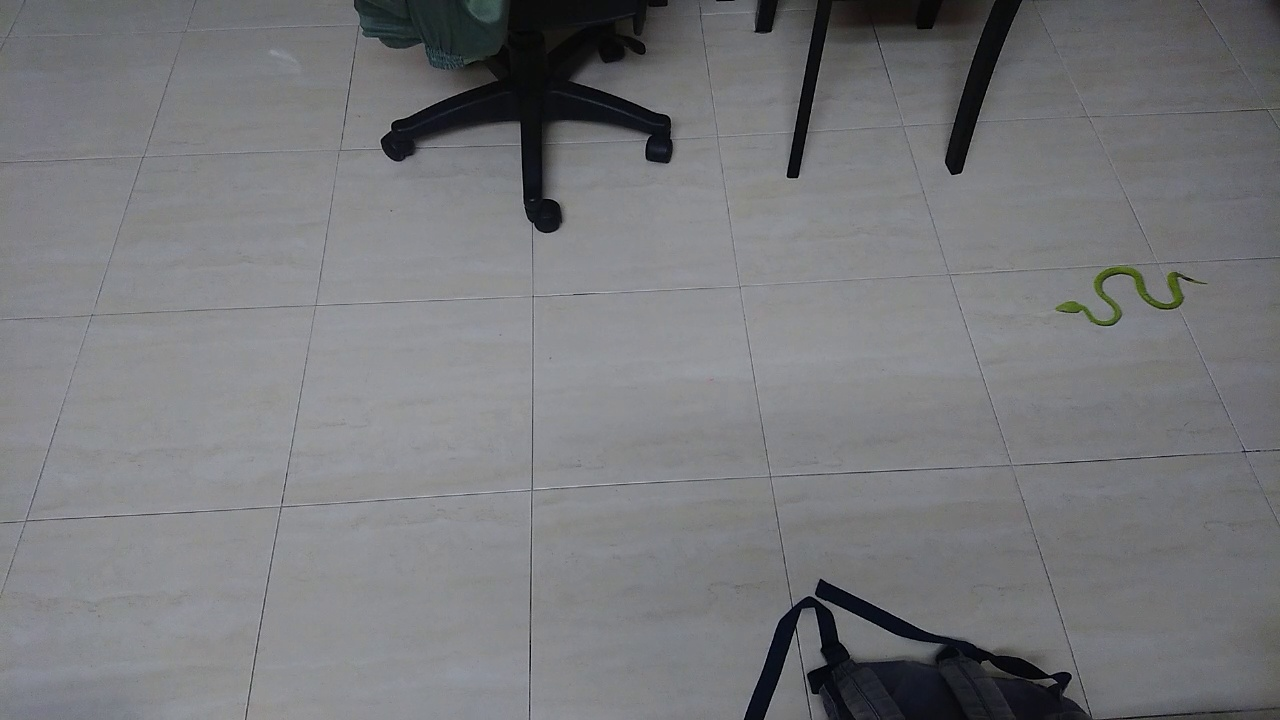snake: (1039, 254, 1227, 336)
